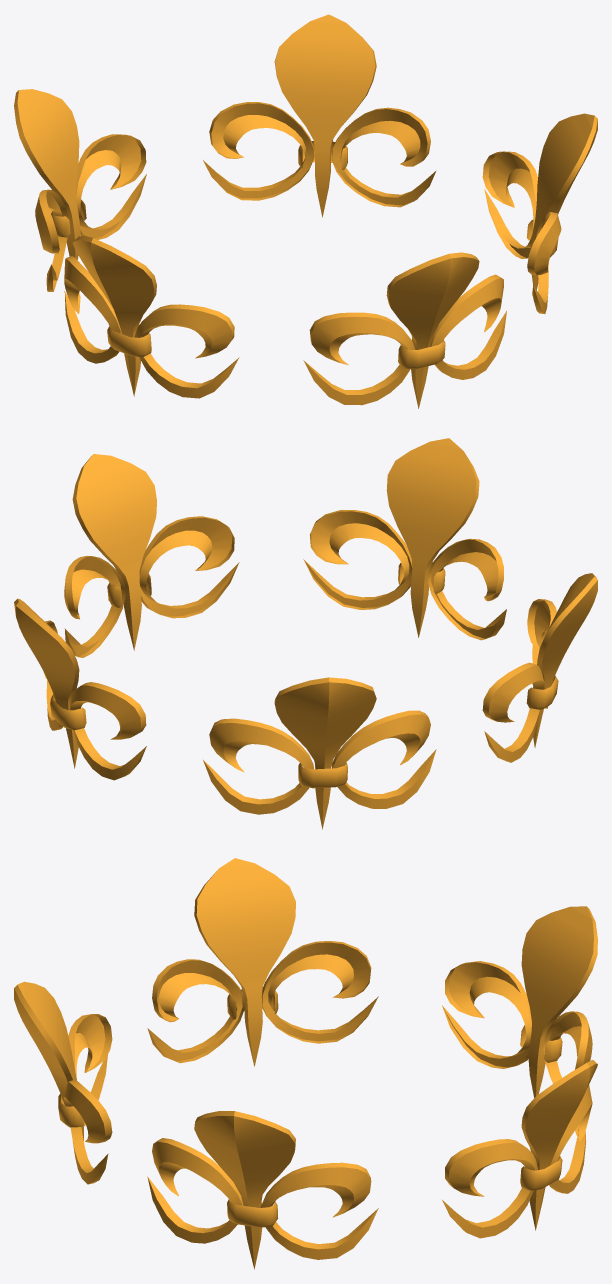
Rendered from Cake_Sml_itemsSide_RoyalSymbol-A.FBX.
3 renders of one model, top to bottom at view 1: azimuth 30°, elevation 25°; view 2: azimuth 150°, elevation 25°; view 3: azimuth 270°, elevation 25°, orthographic. The views are drawn at different scales.
Visible parts, largest first — view 1: Cake_Sml_itemsSide_RoyalSymbol-A; view 2: Cake_Sml_itemsSide_RoyalSymbol-A; view 3: Cake_Sml_itemsSide_RoyalSymbol-A.
Part boxes in pixels (x1,y1,x2,y2): Cake_Sml_itemsSide_RoyalSymbol-A: (14, 14, 597, 408); Cake_Sml_itemsSide_RoyalSymbol-A: (14, 438, 597, 829); Cake_Sml_itemsSide_RoyalSymbol-A: (14, 858, 597, 1269).
Size of the model in its own units: 5823 by 1956 by 5617.
